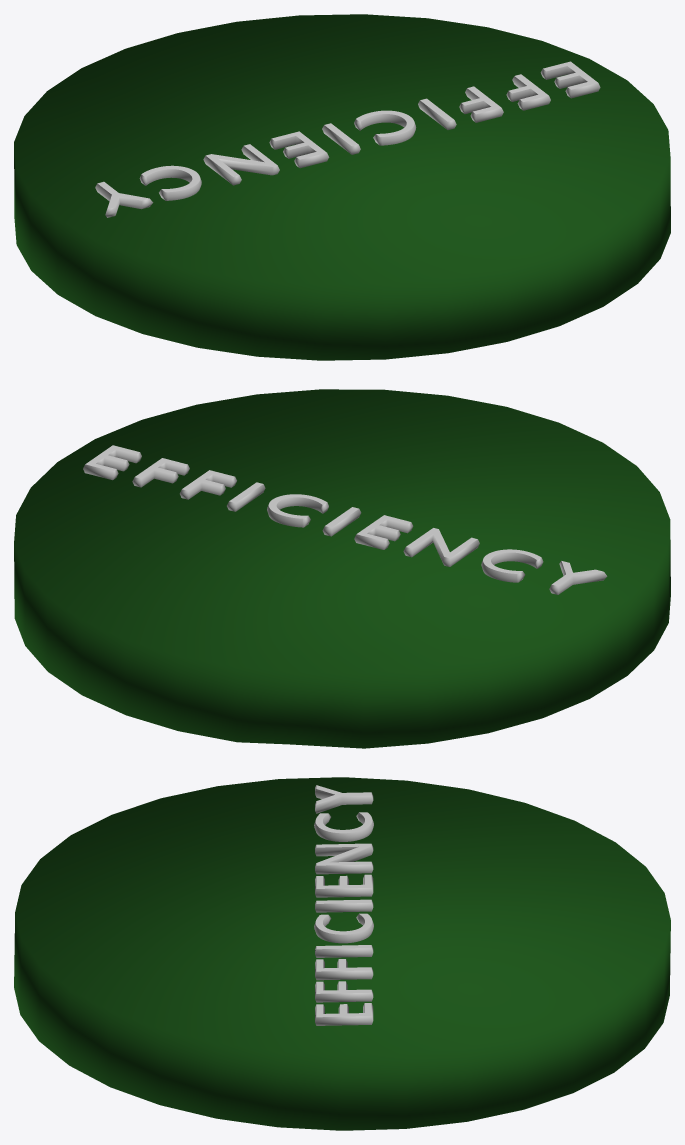
3 renders of one model, top to bottom at view 1: azimuth 30°, elevation 25°; view 2: azimuth 150°, elevation 25°; view 3: azimuth 270°, elevation 25°, orthographic.
Parts seen in each view (by area): view 1: Circle, Efficiency Spark.001; view 2: Circle, Efficiency Spark.001; view 3: Circle, Efficiency Spark.001.
Part boxes in pixels (x1,y1,x2,y2): Circle: (14,14,670,360); Efficiency Spark.001: (95,61,600,217); Circle: (14,389,670,748); Efficiency Spark.001: (83,445,607,594); Circle: (14,777,670,1130); Efficiency Spark.001: (314,785,373,1025).
Size of the model in its own units: 8.56 by 1.5 by 8.58.
